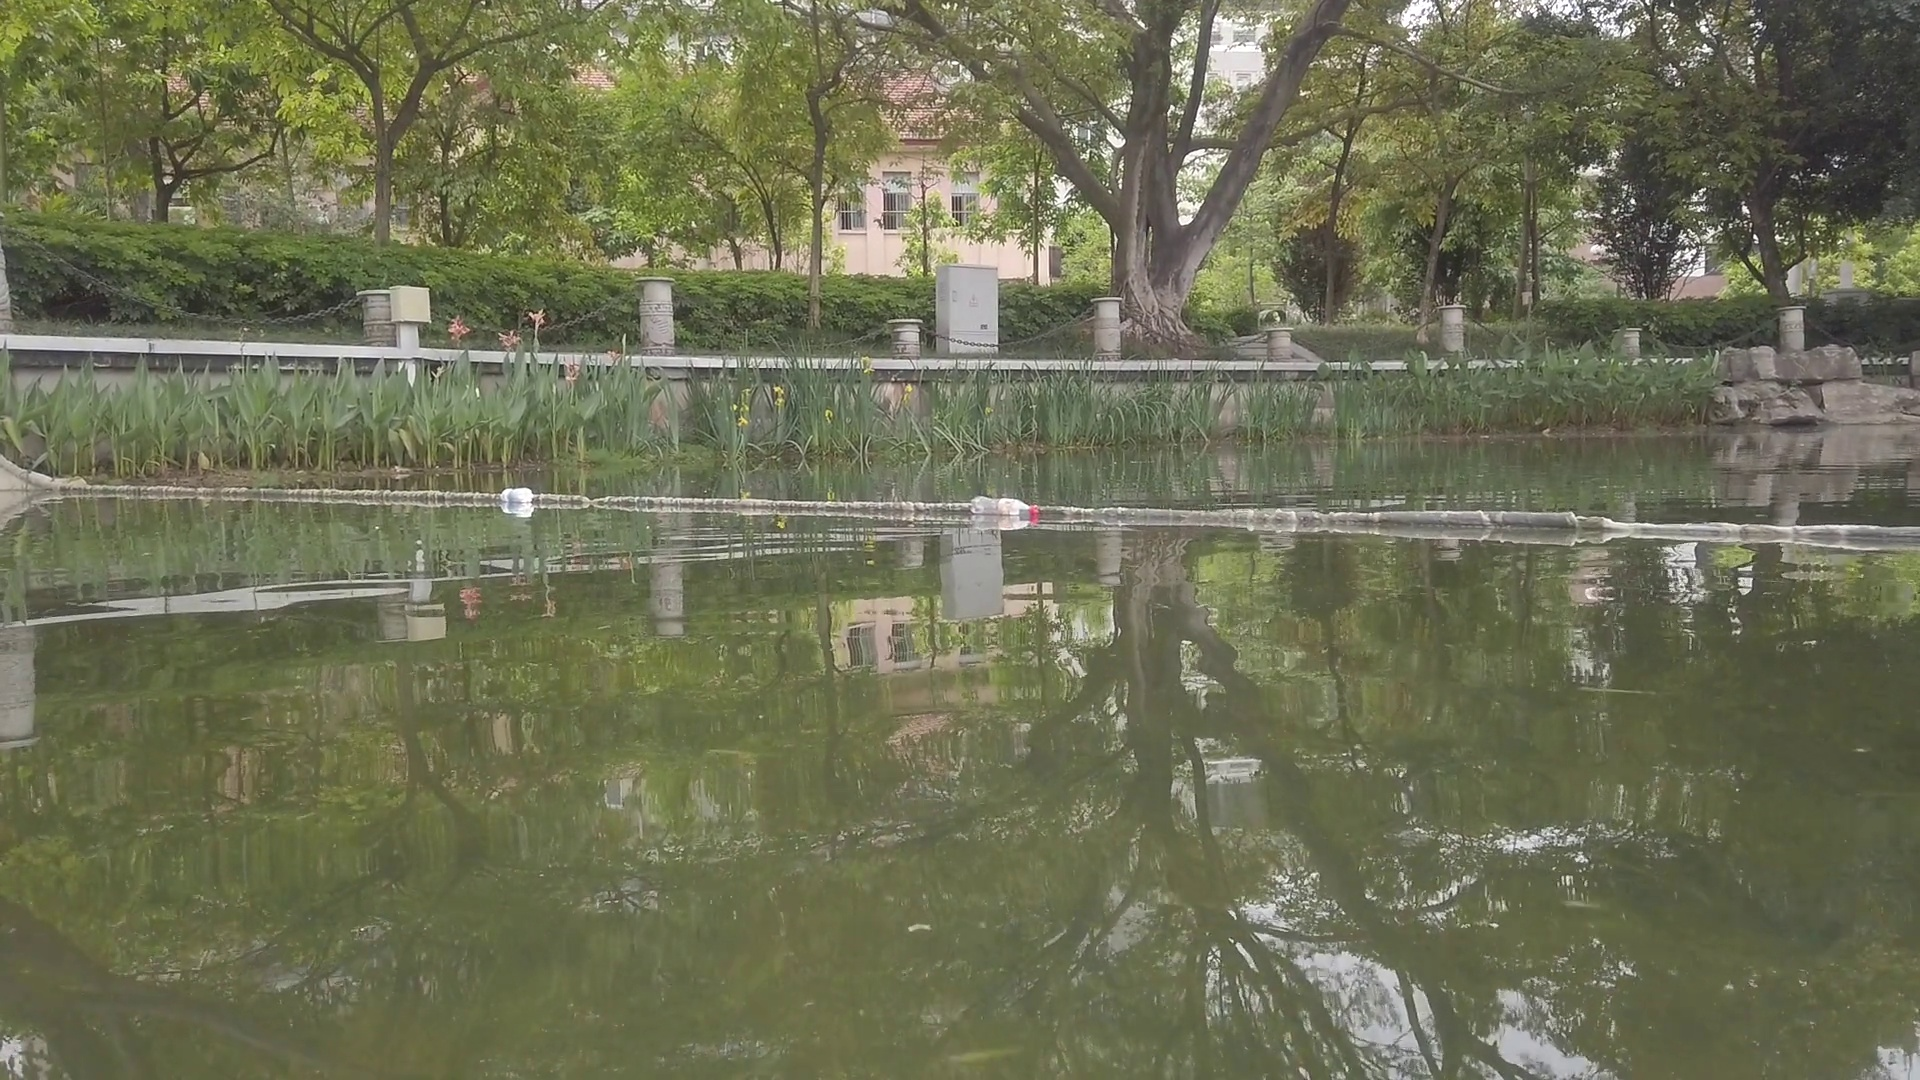bottle: (969, 495, 1038, 517), (498, 487, 534, 505)
